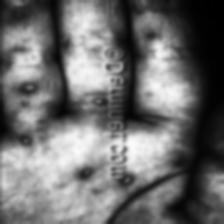Toxin: (78, 168, 92, 177), (119, 176, 134, 184), (20, 135, 31, 144), (22, 85, 36, 91), (92, 98, 104, 104)
